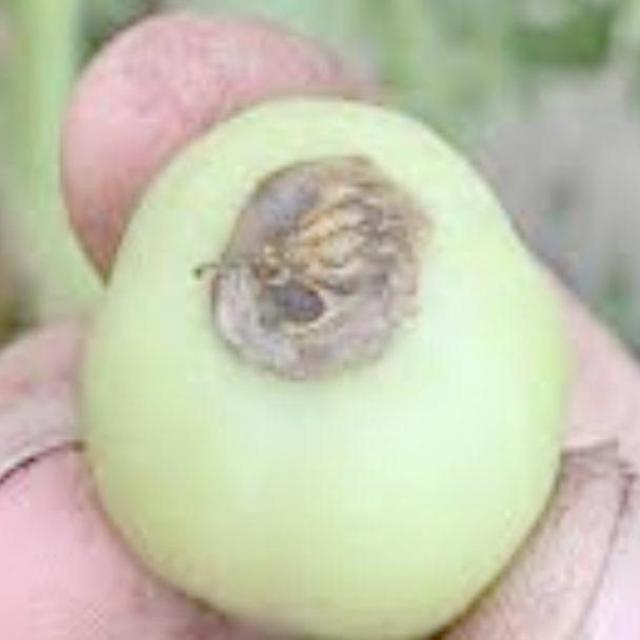Blossom End Rot Fruit: (139, 104, 287, 248)
